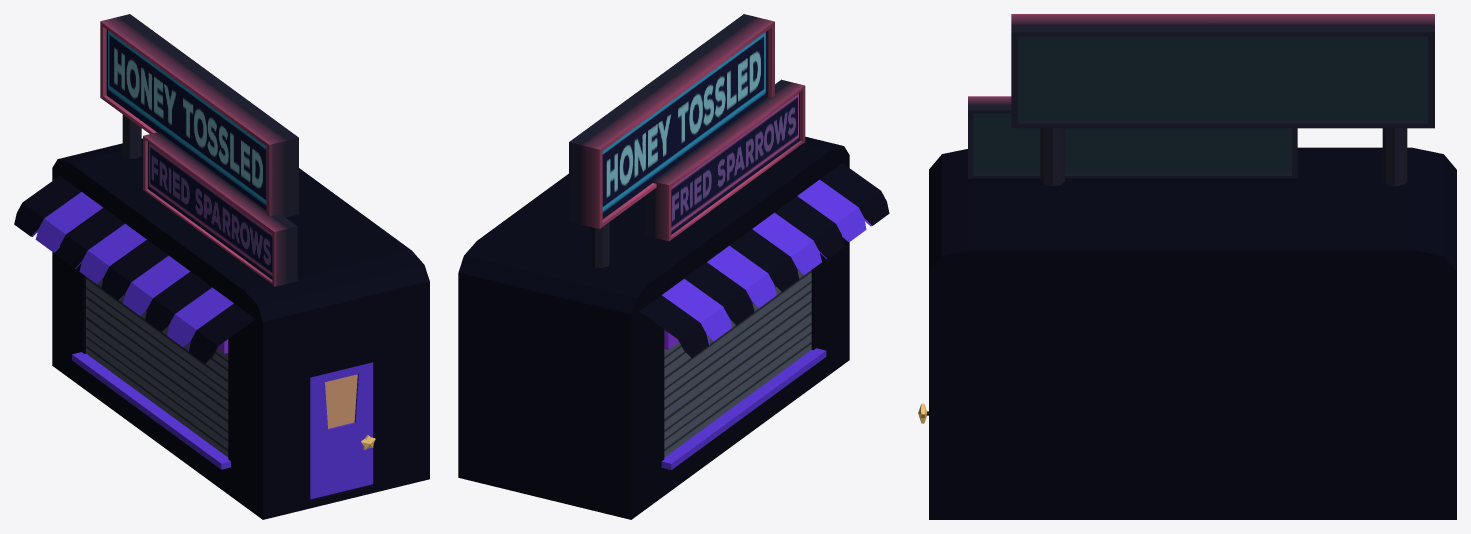
Rendered from Building_StreetCart05.fbx.
The picture shows the model from 3 angles, left to right: view 1: azimuth 30°, elevation 25°; view 2: azimuth 150°, elevation 25°; view 3: azimuth 270°, elevation 25°; orthographic projection. The views are drawn at different scales.
Visible parts, largest first — view 1: Cube.699, Cube.706, Cube.703, Cube.704; view 2: Cube.699, Cube.706, Cube.703; view 3: Cube.699, Cube.706.
Boxes of the visible parts, x1,y1,x2,y2 form: Cube.699: (14, 138, 429, 519); Cube.706: (100, 14, 298, 286); Cube.703: (86, 276, 228, 457); Cube.704: (310, 362, 373, 499); Cube.699: (458, 136, 889, 519); Cube.706: (569, 14, 805, 267); Cube.703: (664, 269, 811, 457); Cube.699: (929, 147, 1456, 519); Cube.706: (968, 14, 1434, 186).
Bounding box in the file's own units: 218 × 330 × 377.
